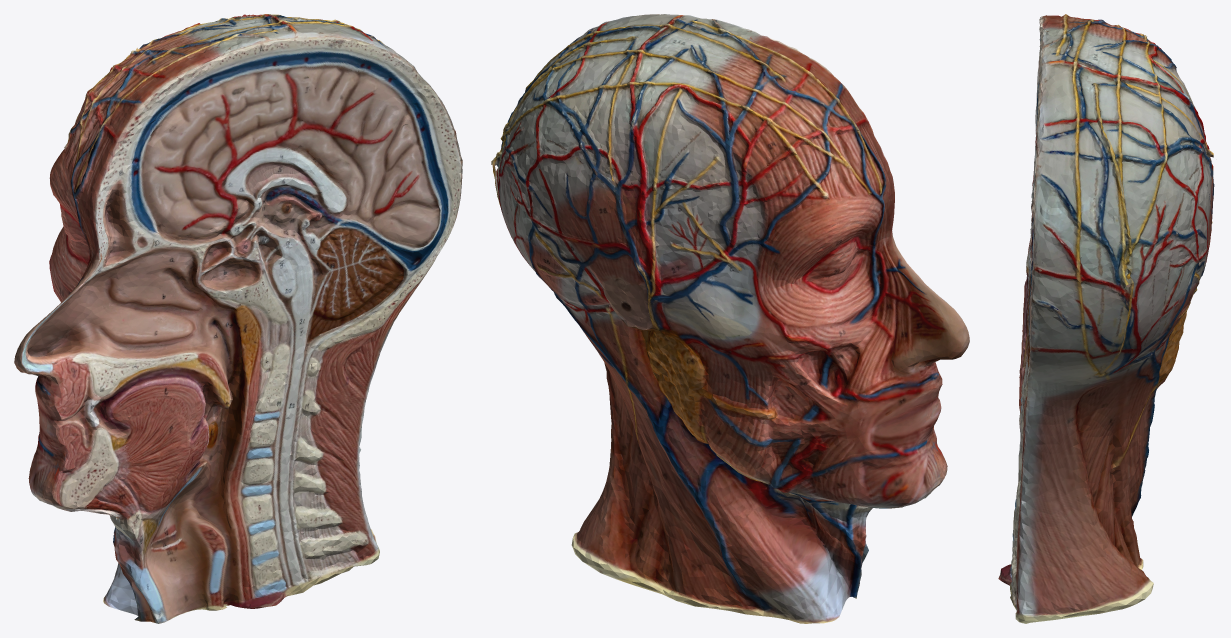
3 views of the same model, side by side, from view 1: azimuth 30°, elevation 25°; view 2: azimuth 150°, elevation 25°; view 3: azimuth 270°, elevation 25° (orthographic).
Visible parts, largest first — view 1: 9e71eca6_236f_4e05_82e7_2adc9ba22b84; view 2: 9e71eca6_236f_4e05_82e7_2adc9ba22b84; view 3: 9e71eca6_236f_4e05_82e7_2adc9ba22b84.
Boxes of the visible parts, x1,y1,x2,y2 form: 9e71eca6_236f_4e05_82e7_2adc9ba22b84: [14, 14, 462, 623]; 9e71eca6_236f_4e05_82e7_2adc9ba22b84: [491, 14, 969, 623]; 9e71eca6_236f_4e05_82e7_2adc9ba22b84: [998, 14, 1214, 623].
Size of the model in its own units: 68.47 by 80.98 by 29.56.
Materials: 1 (1 with a texture image).
